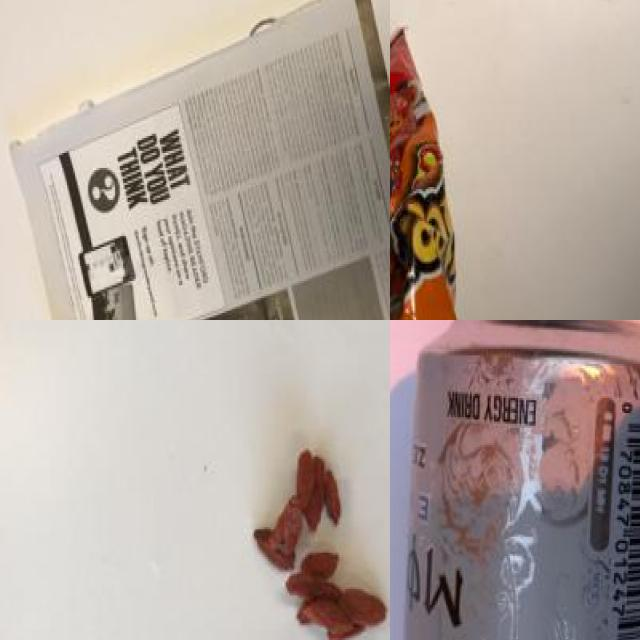compost: (236, 428, 390, 640)
paper: (14, 0, 390, 320)
plastic: (393, 320, 640, 640)
trash: (390, 10, 499, 320)
